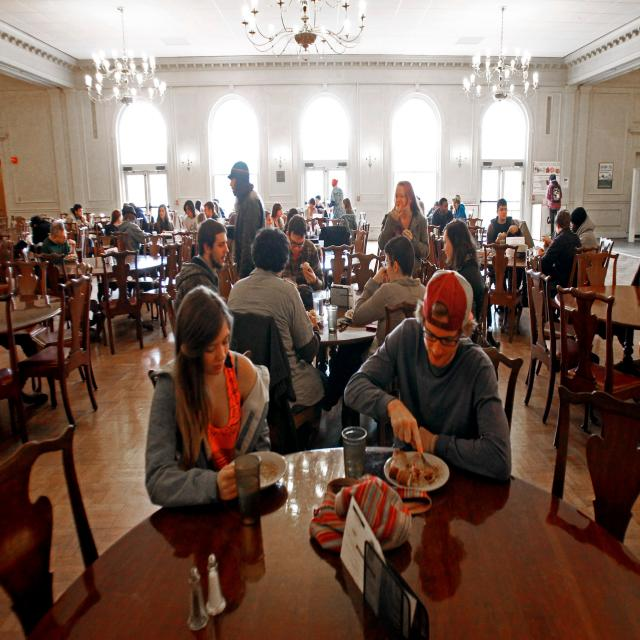body: (341, 267, 515, 486), (143, 283, 274, 508), (149, 470, 284, 625), (316, 235, 430, 413), (225, 224, 329, 415), (363, 483, 513, 608), (172, 216, 231, 340), (442, 218, 486, 346), (377, 180, 431, 284), (595, 253, 640, 369), (227, 160, 267, 280), (280, 214, 326, 308), (536, 208, 582, 299), (485, 197, 524, 291), (541, 206, 600, 254), (39, 220, 76, 296), (194, 192, 238, 235), (116, 205, 151, 255), (64, 203, 95, 258), (0, 234, 30, 285), (120, 197, 152, 233), (546, 173, 563, 239), (261, 207, 299, 233), (28, 215, 52, 256), (430, 197, 454, 234), (327, 178, 345, 222), (183, 200, 200, 244), (152, 203, 175, 234), (342, 197, 358, 241), (104, 209, 122, 245), (270, 202, 288, 232), (450, 193, 467, 224), (414, 196, 439, 217), (203, 200, 220, 222), (304, 198, 318, 220), (313, 194, 324, 210)
